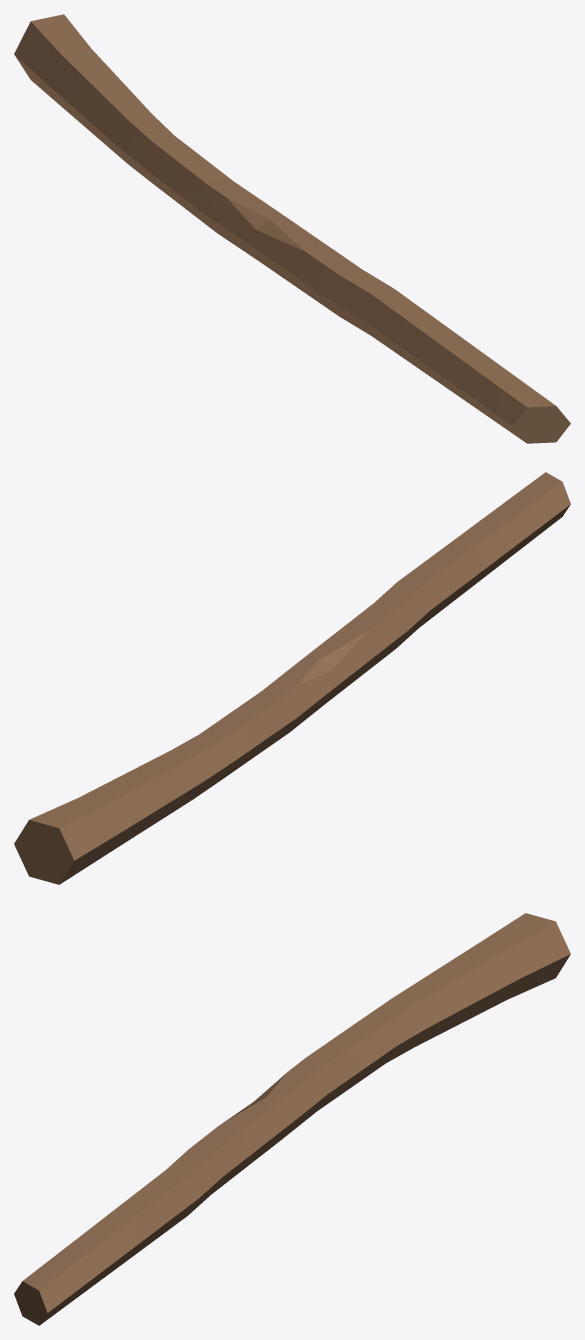
File: props_bridge.glb
3 views of the same model, one above another, from view 1: azimuth 30°, elevation 25°; view 2: azimuth 150°, elevation 25°; view 3: azimuth 330°, elevation 25° (orthographic). The views are drawn at different scales.
Visible parts, largest first — view 1: props_bridge; view 2: props_bridge; view 3: props_bridge.
Boxes of the visible parts, box(x1,y1,x2,y2) form: props_bridge: box(14, 14, 570, 443); props_bridge: box(14, 472, 570, 884); props_bridge: box(14, 913, 570, 1325).
Size of the model in its own units: 0.0374 by 0.0244 by 0.3907.
